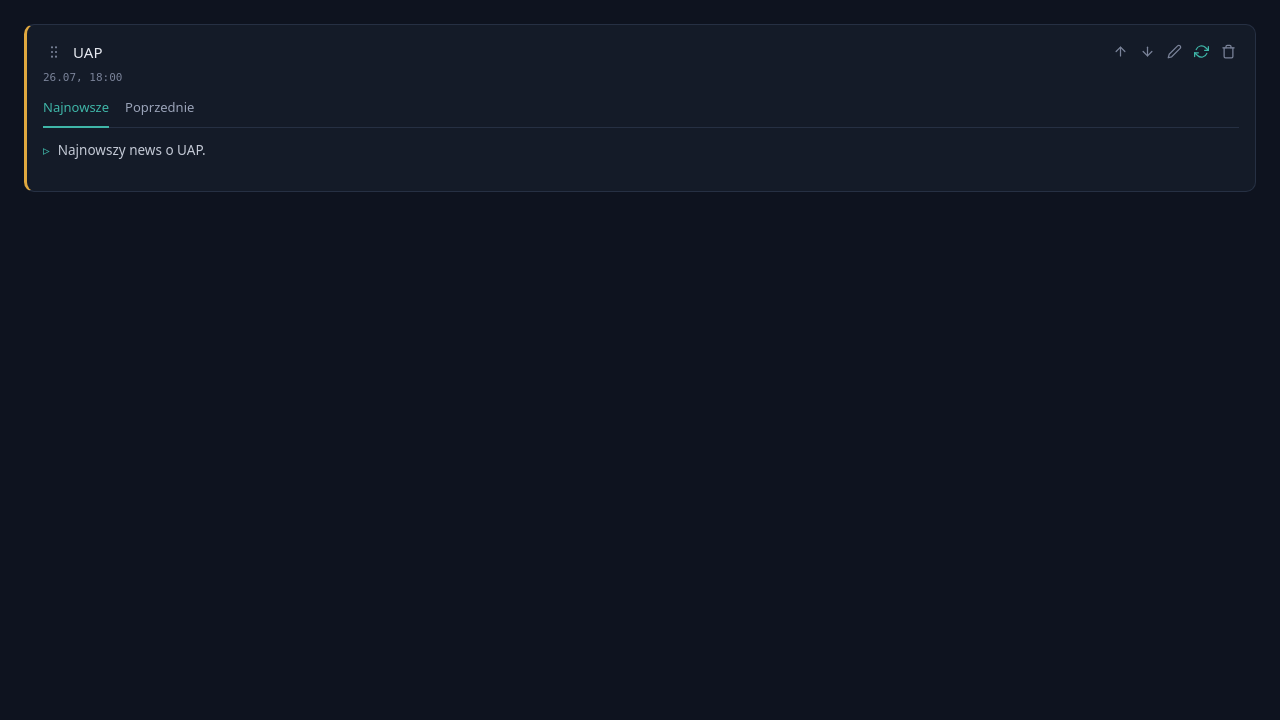
it: BoxCard › przed usunięciem pyta o potwierdzenie z nazwą tematu
Click the button named "Usuń temat \"UAP\"".
click(1228, 52)  # box top-left (1218, 41), bottom-right (1239, 62)
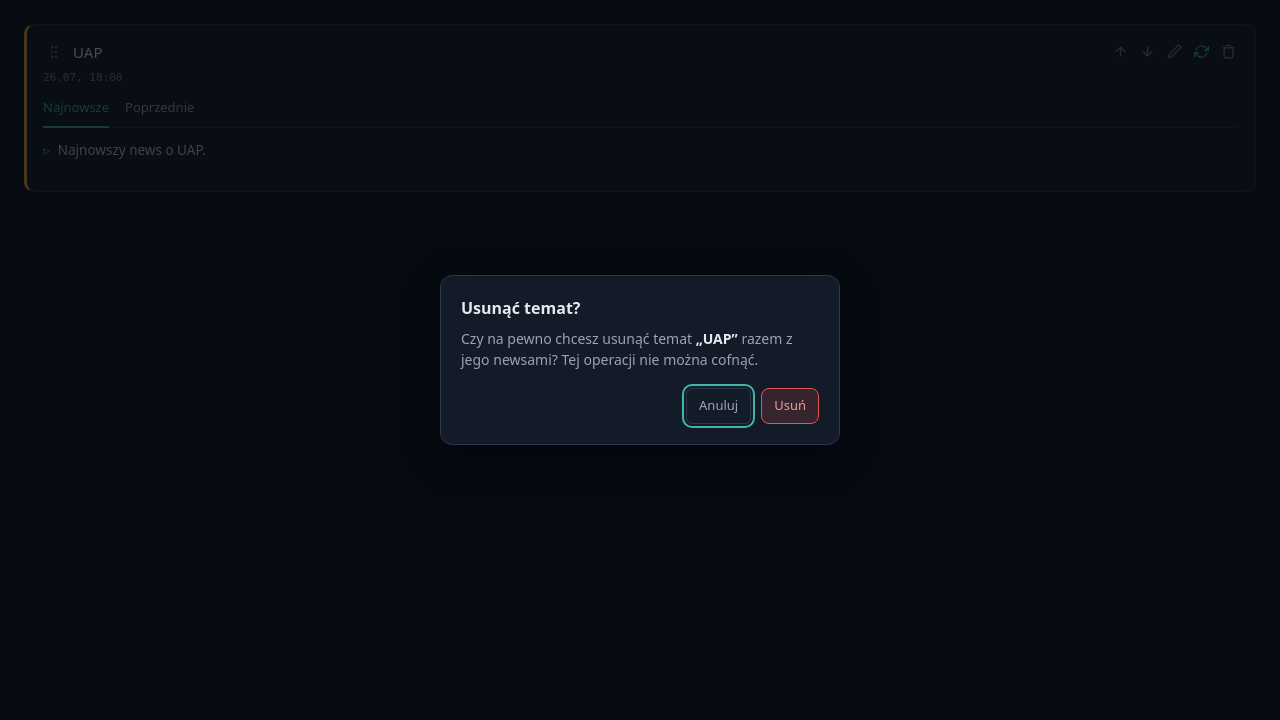
Expected: the dialog "Usunąć temat?" shows "„UAP”", top-left (440, 275), bottom-right (840, 445)
Click the button "Usuń".
click(790, 406)  # box top-left (761, 388), bottom-right (819, 424)
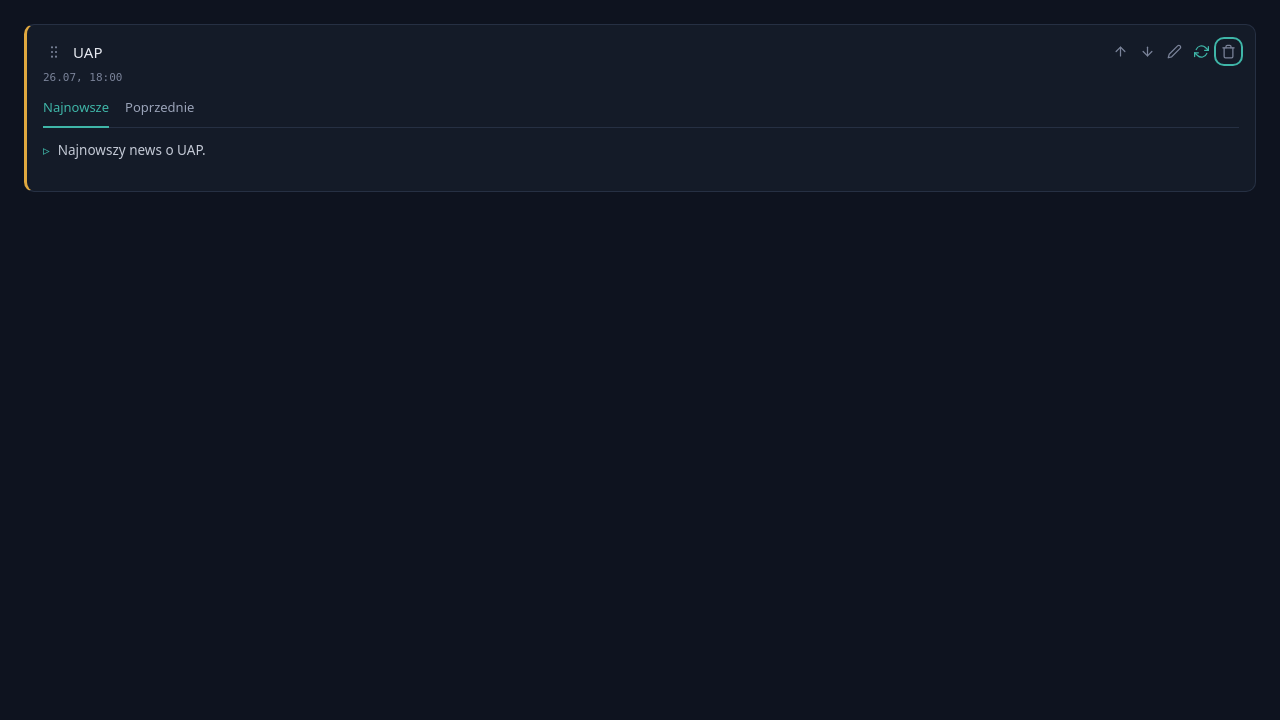
Expected: the dialog is gone
